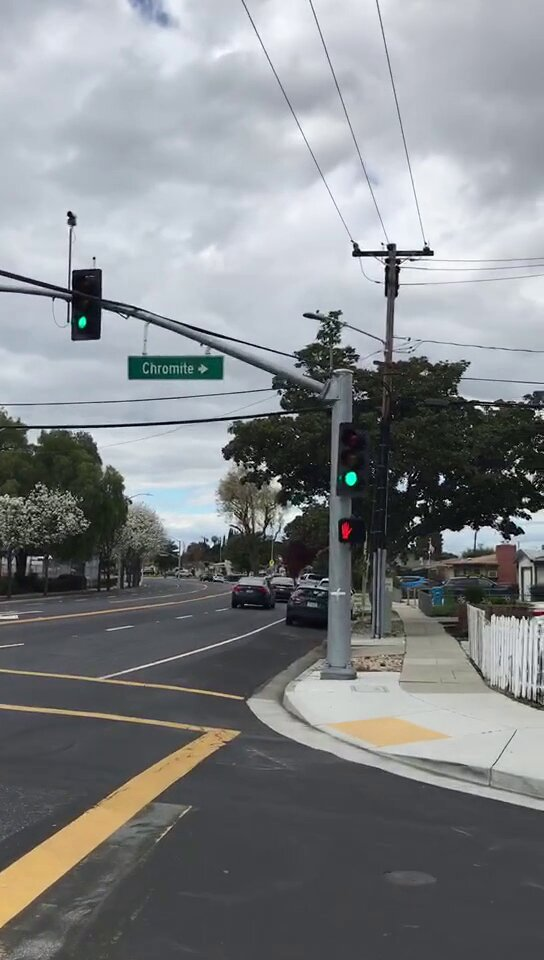green_light: (339, 424, 369, 493), (73, 272, 100, 340)
